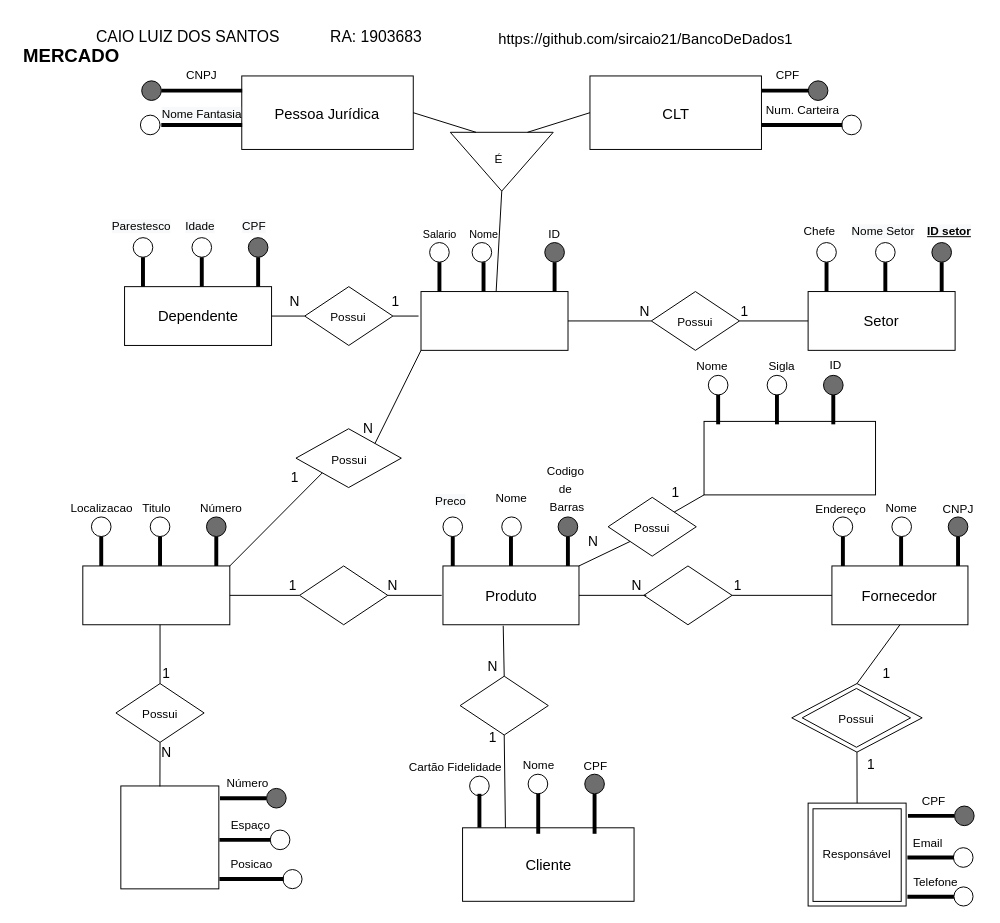
This 1000x923 diagram has some shape labels left out. The shapes that lost their labels are listed below. From the top down, each one's centre as x and y in pixels, then its label:
At (x=494, y=320): "Funcionario".
At (x=789, y=457): "Unidade de Medida".
At (x=156, y=595): "Seção".
At (x=343, y=595): "Pertence à".
At (x=687, y=595): "Fonerce".
At (x=503, y=705): "Compra".
At (x=169, y=837): "Prateleira".
